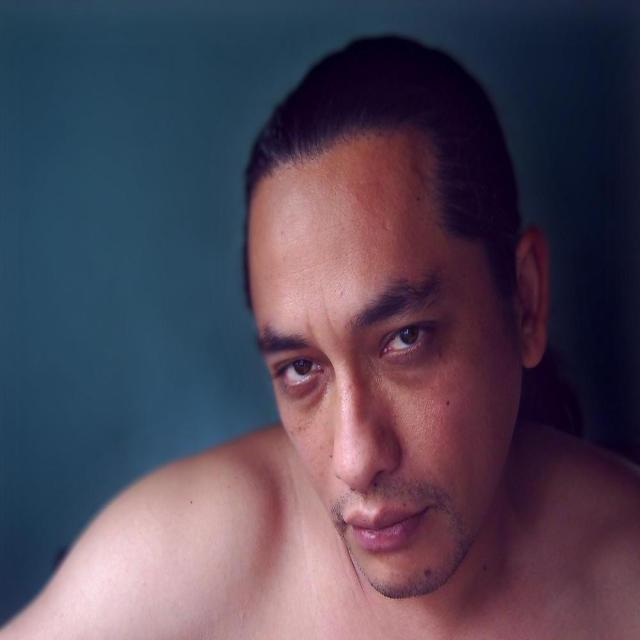no-glass: (273, 319, 428, 391)
